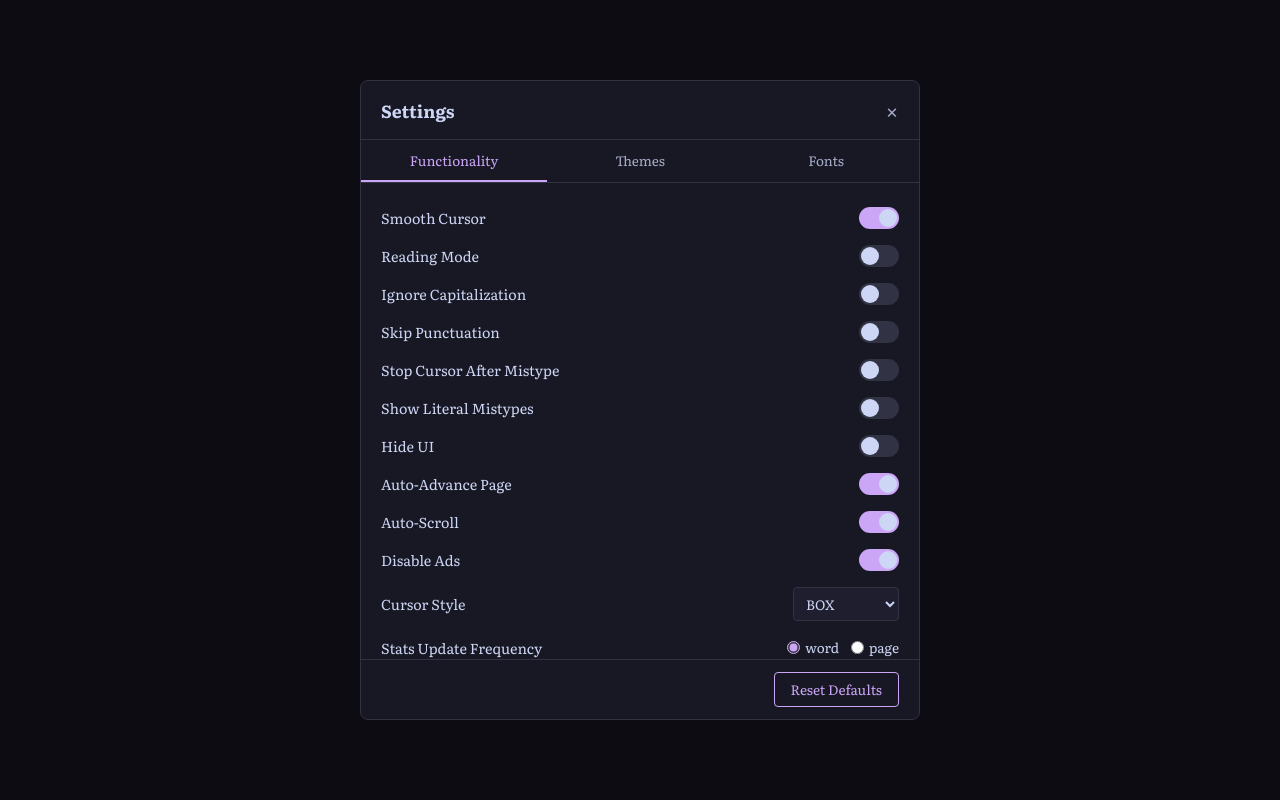
Test: SettingsModal › shows Themes tab when clicked
What coordinates should you click on to do the following:
click the button "Themes"
I would click on:
 (640, 161)
Its box is [547,140,733,182].
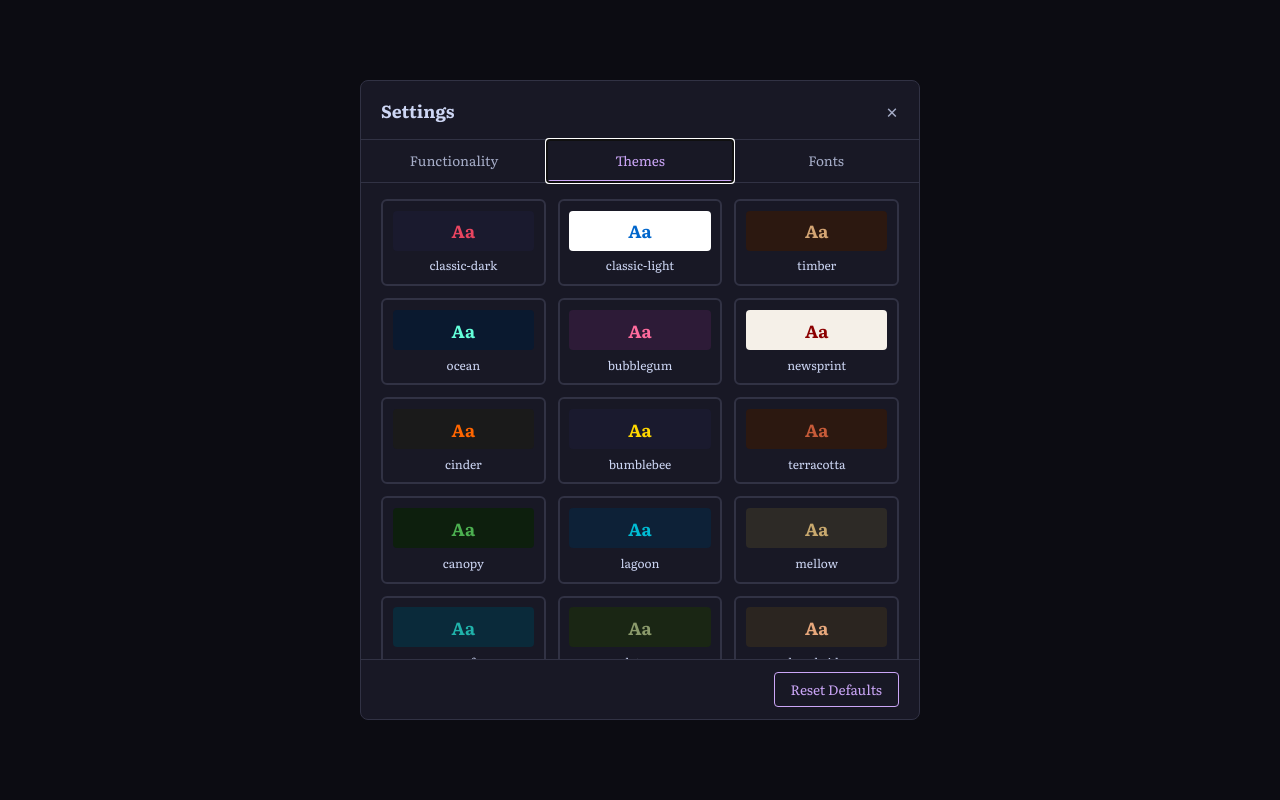
Expected: the text "ocean" is shown, [447,356,480,374]
